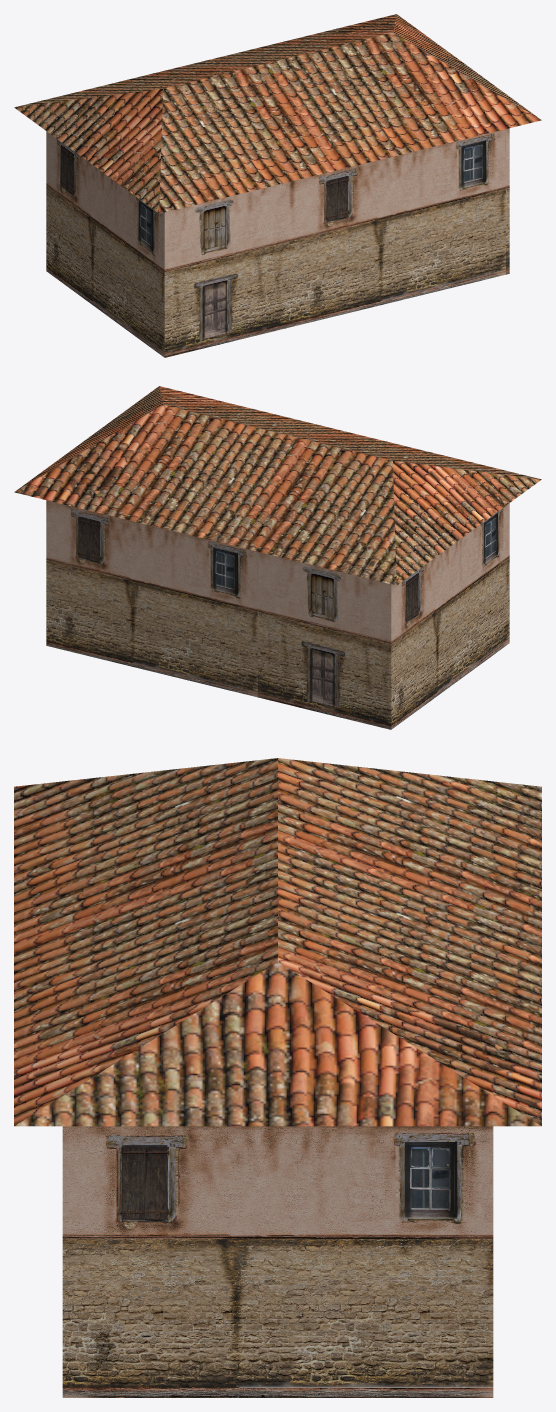
File: simplehouse3.fbx
3 views of the same model, one above another, from view 1: azimuth 30°, elevation 25°; view 2: azimuth 150°, elevation 25°; view 3: azimuth 270°, elevation 25° (orthographic). The views are drawn at different scales.
Parts seen in each view (by area): view 1: Model; view 2: Model; view 3: Model.
Boxes of the visible parts, <box> form: Model: <box>14,14,541,357</box>; Model: <box>14,386,541,729</box>; Model: <box>14,758,541,1397</box>.
Size of the model in its own units: 8007 by 4233 by 5261.
